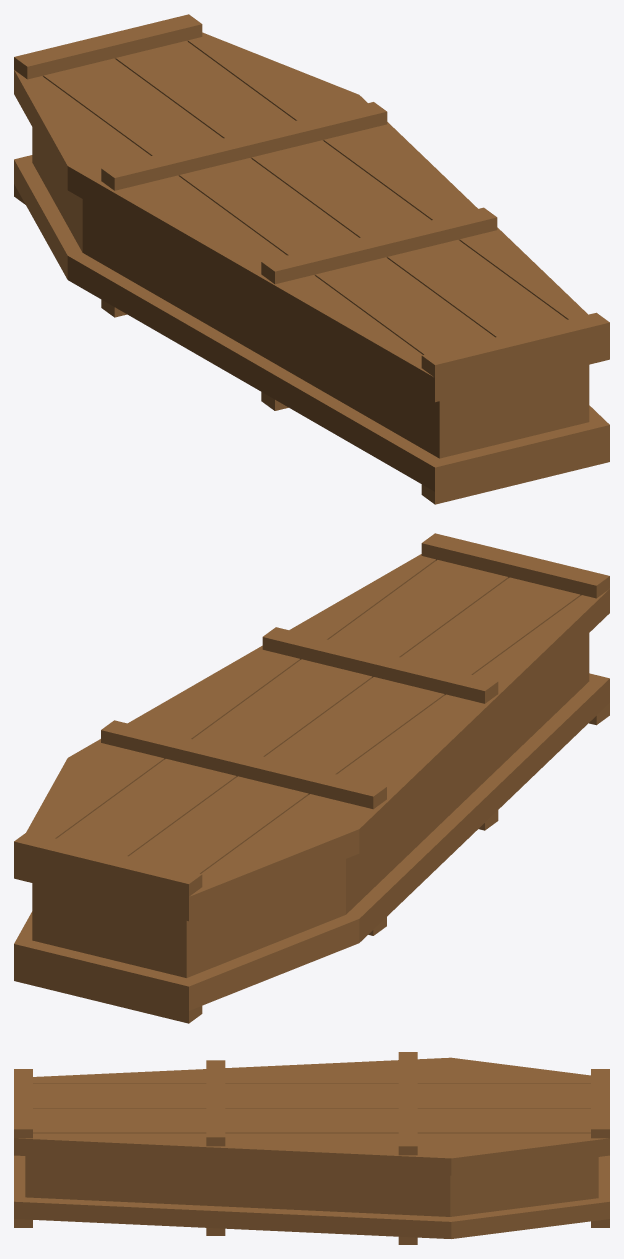
The model's file is Casket_Timber_Closed_01.fbx.
3 renders of one model, top to bottom at view 1: azimuth 30°, elevation 25°; view 2: azimuth 150°, elevation 25°; view 3: azimuth 270°, elevation 25°, orthographic. The views are drawn at different scales.
Parts seen in each view (by area): view 1: Model; view 2: Model; view 3: Model.
Part boxes in pixels (x1,y1,x2,y2): Model: (14,14,609,504); Model: (14,533,609,1023); Model: (14,1052,609,1244).
Size of the model in its own units: 413 by 189 by 1033.
